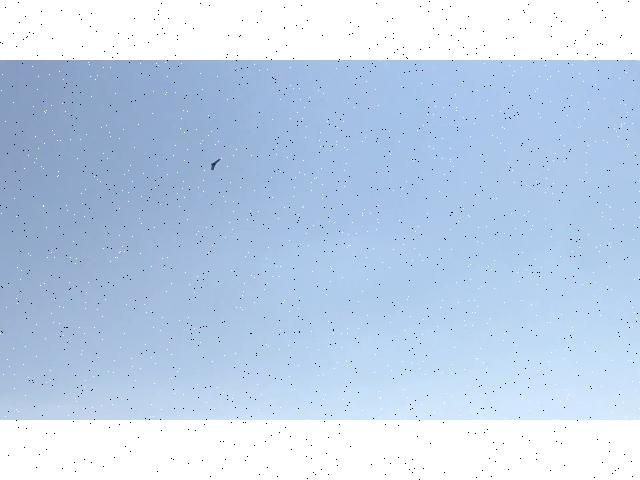Anti-Drone: (202, 153, 226, 171)
